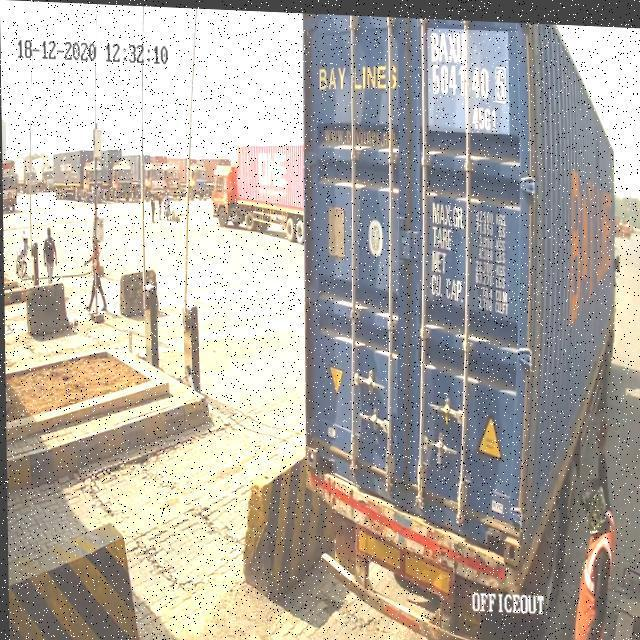container_number_h: (427, 24, 509, 130)
